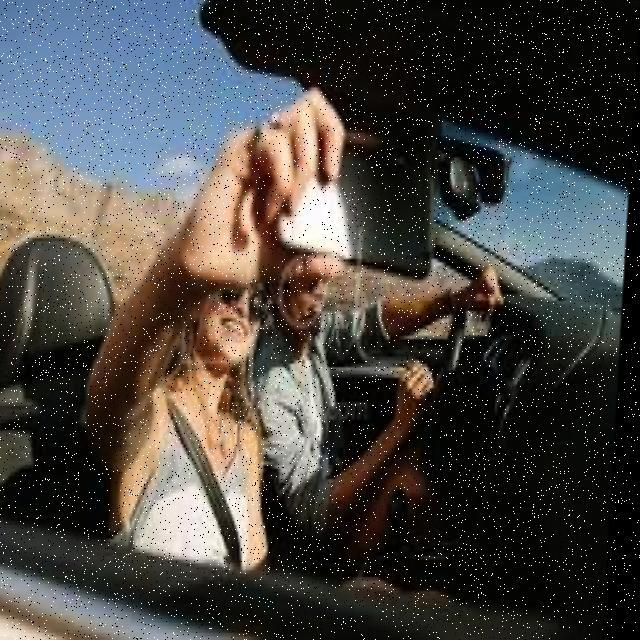seatbelt: (143, 388, 264, 574)
